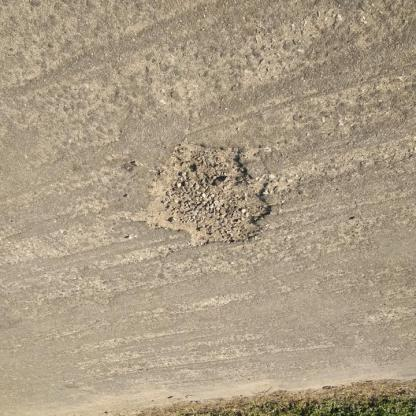pothole: (129, 141, 275, 249)
